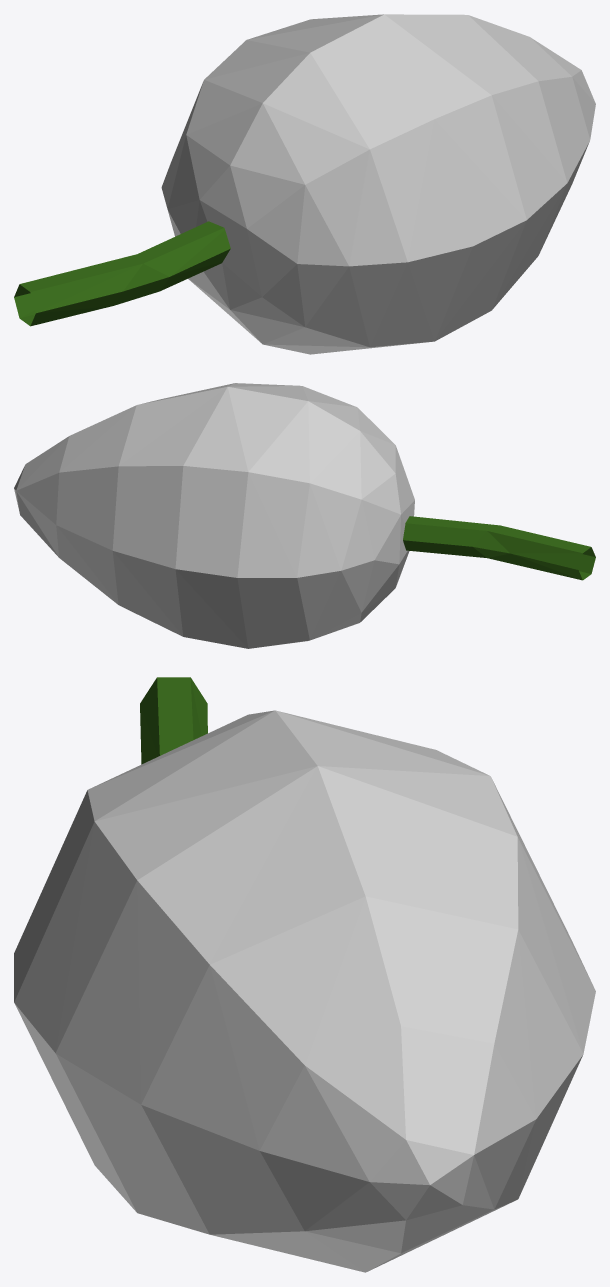
Rendered from PistachioNut.obj.
3 views of the same model, one above another, from view 1: azimuth 30°, elevation 25°; view 2: azimuth 150°, elevation 25°; view 3: azimuth 270°, elevation 25° (orthographic). The views are drawn at different scales.
Parts seen in each view (by area): view 1: fruit, pedicel; view 2: fruit, pedicel; view 3: fruit, pedicel.
Part boxes in pixels (<box>): fruit: <box>161,14,595,354</box>; pedicel: <box>14,221,230,326</box>; fruit: <box>14,383,414,648</box>; pedicel: <box>403,516,595,580</box>; fruit: <box>14,710,595,1272</box>; pedicel: <box>140,677,207,764</box>.
Size of the model in its own units: 1.18 by 0.5585 by 0.6036.
